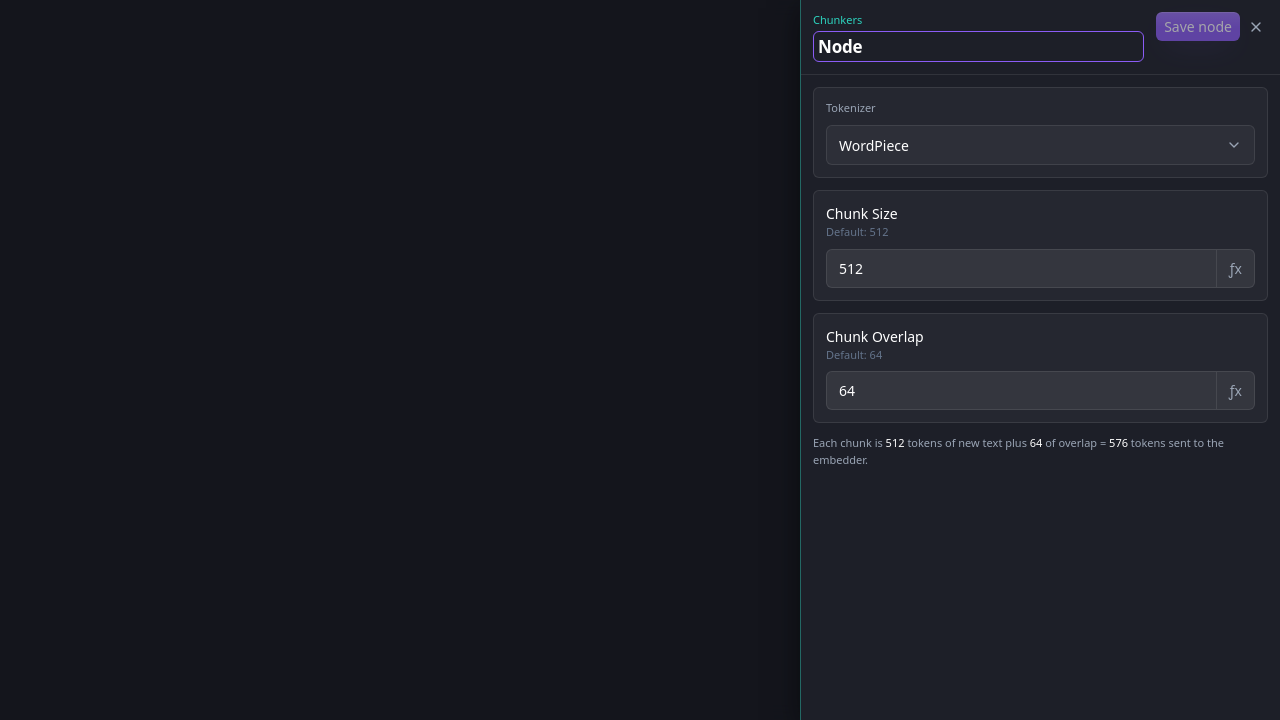
Test: NodeEditorDrawer › counts the chunk window in the unit the configured tokenizer actually measures
Click the dropdown named "Tokenizer": (874, 146) x1=826 y1=124 x2=1255 y2=165
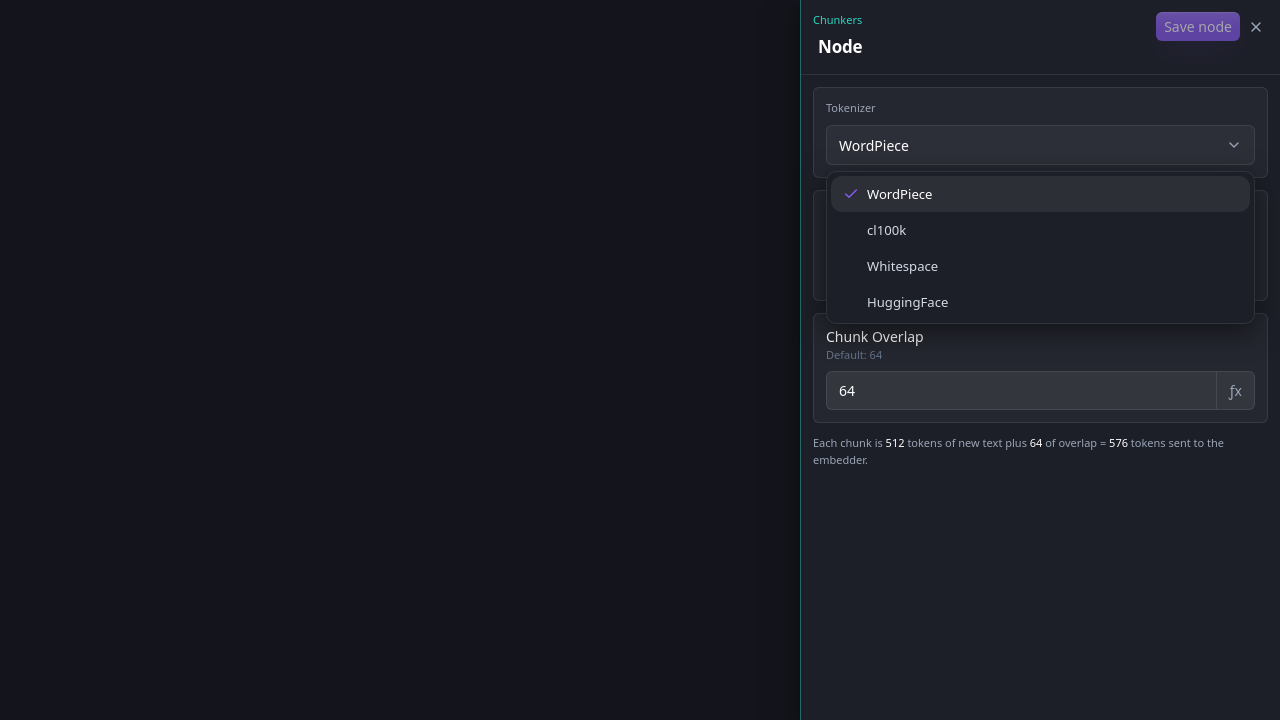
Click the option "Whitespace": (903, 266) x1=867 y1=257 x2=938 y2=275
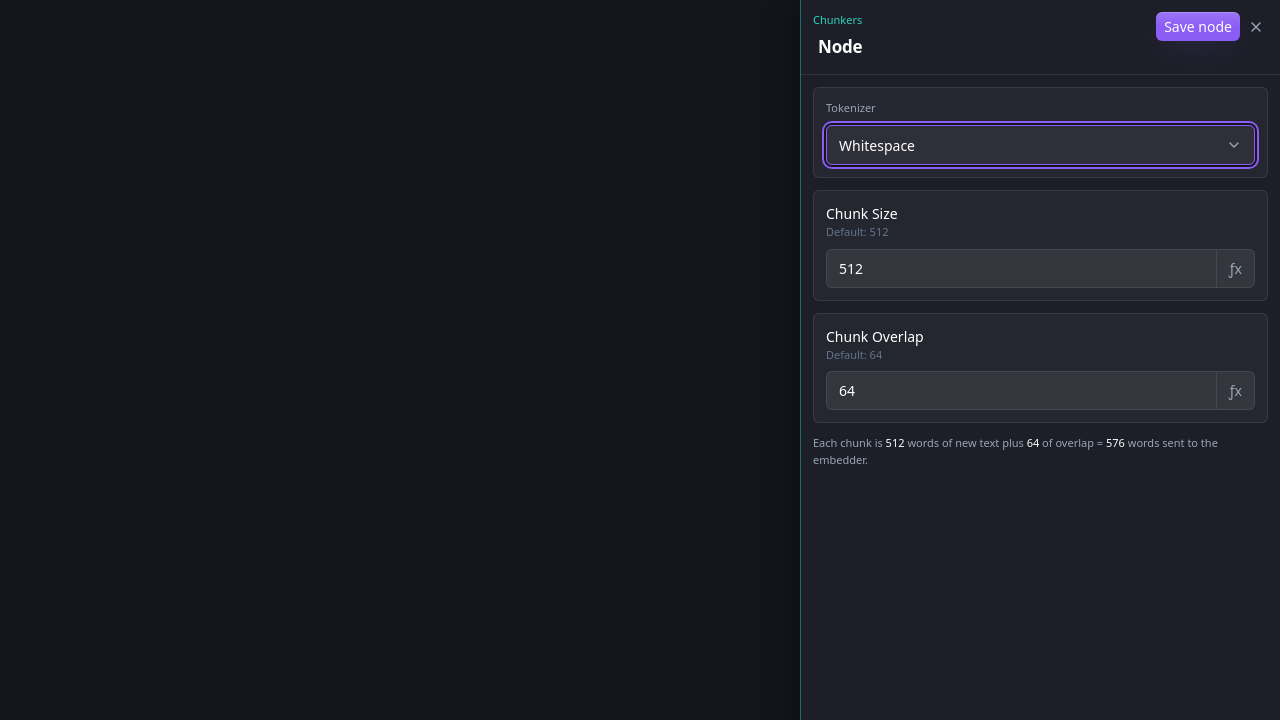
Now the element that starts with "Each chunk is" shows "576 words sent to the embedder", box x1=813 y1=435 x2=1268 y2=468
